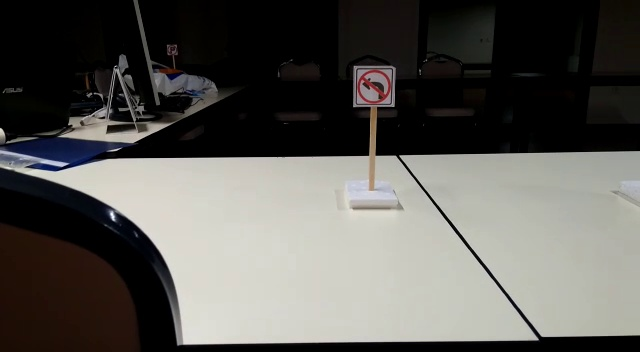sola_donulmez: (349, 65, 397, 111)
